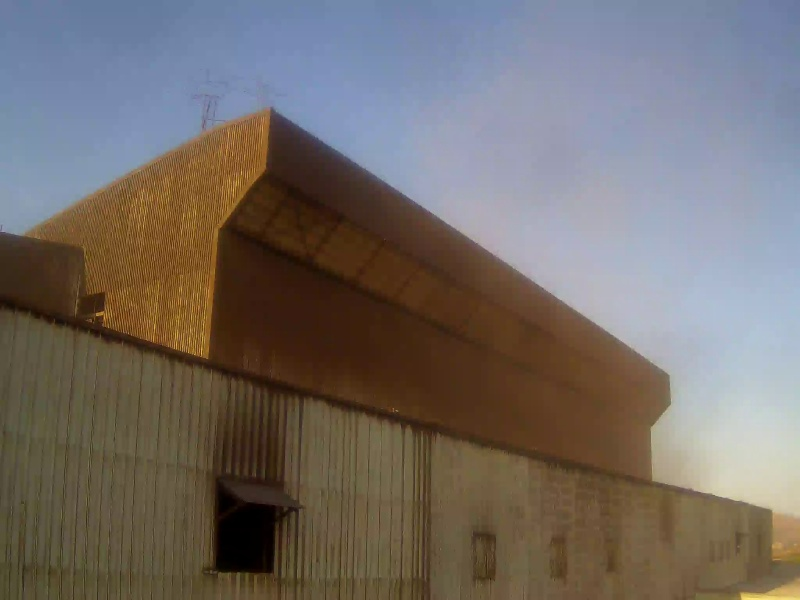bom: (9, 9, 359, 301)
ruim: (474, 232, 704, 502)
